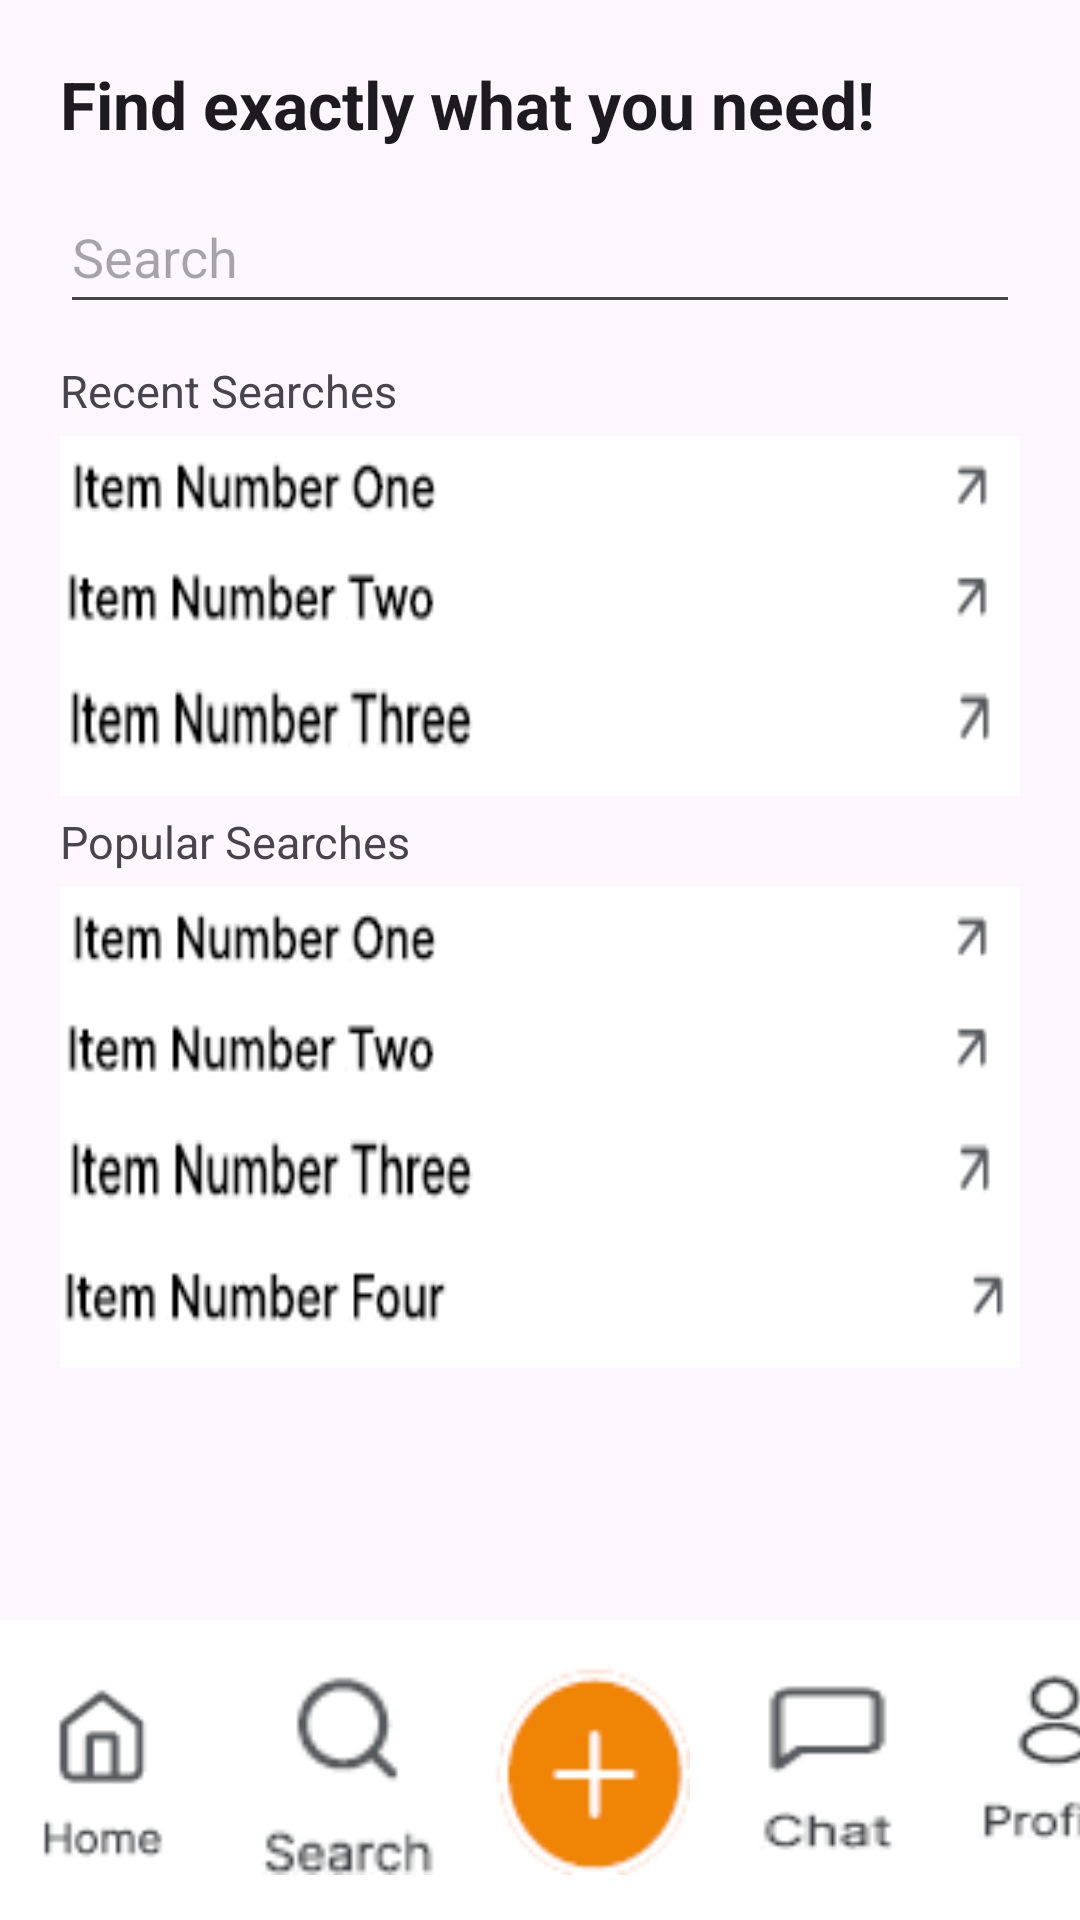

Locate icon controls on the screen. Image size 1080px x 1920px, boxes as (x1, y1, x2, y2).
plus: (498, 1670, 690, 1875)
